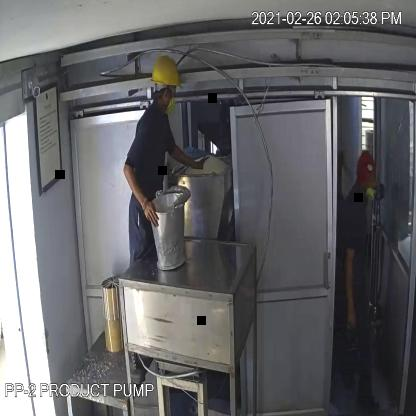helmet: (145, 53, 185, 92)
